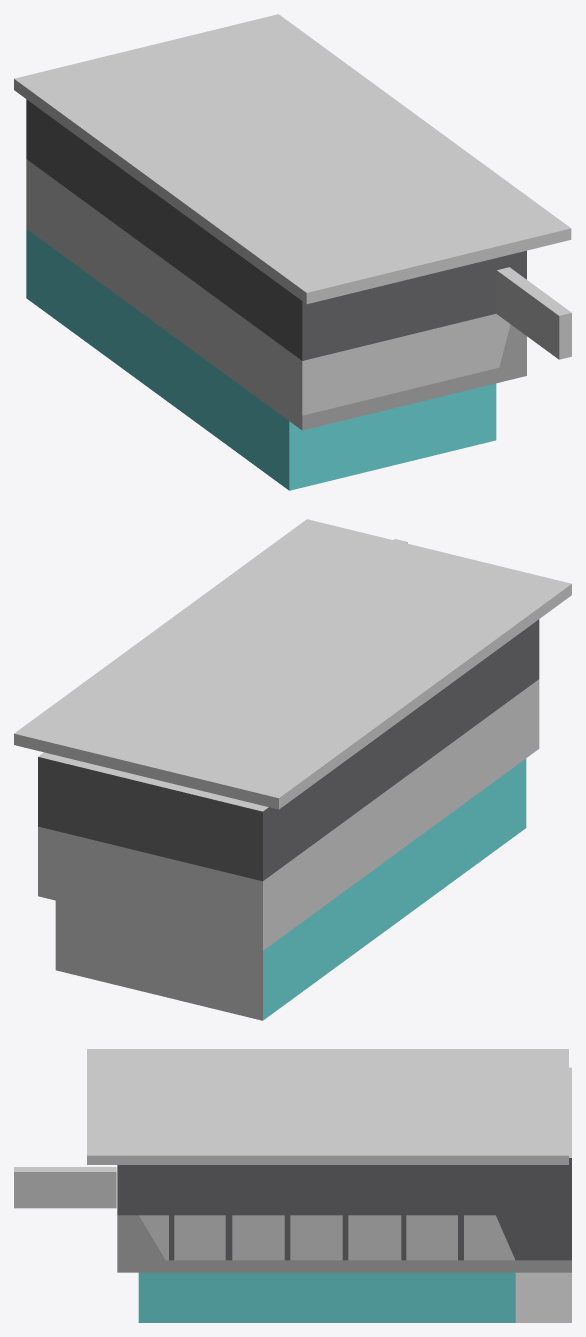
Rendered from Buick.fbx.
3 renders of one model, top to bottom at view 1: azimuth 30°, elevation 25°; view 2: azimuth 150°, elevation 25°; view 3: azimuth 270°, elevation 25°, orthographic. The views are drawn at different scales.
Visible parts, largest first — view 1: Cube; view 2: Cube; view 3: Cube.
Boxes of the visible parts, box(x1,y1,x2,y2) form: Cube: box(14, 14, 571, 490); Cube: box(14, 519, 571, 1020); Cube: box(14, 1049, 571, 1322).
Bounding box in the file's own units: 4125 × 3343 × 9147.
